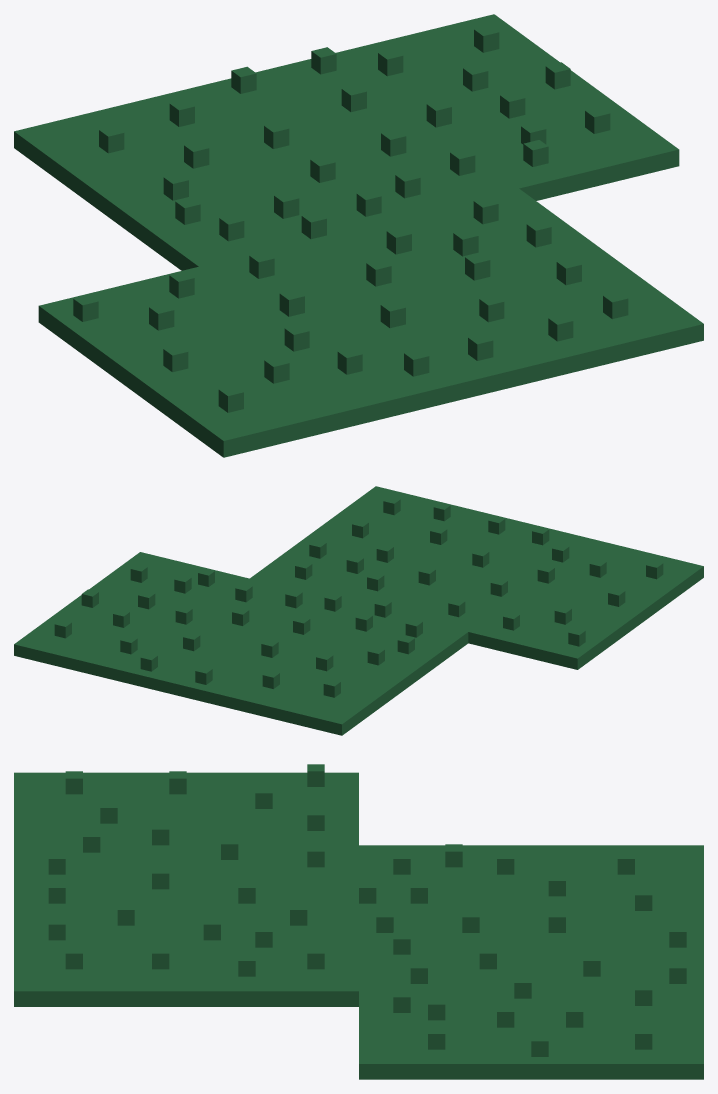
File: Grama cemiterio.obj
The picture shows the model from 3 angles, top to bottom: view 1: azimuth 30°, elevation 25°; view 2: azimuth 150°, elevation 25°; view 3: azimuth 270°, elevation 25°; orthographic projection. The views are drawn at different scales.
Bounding box in the file's own units: 4 × 0.2 × 4.
Materials: 1 (1 with a texture image).
